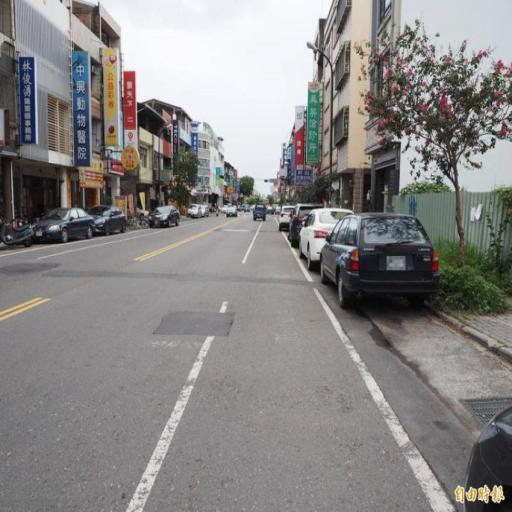car: (315, 208, 449, 316), (292, 203, 356, 270), (30, 200, 98, 246), (88, 196, 134, 240), (148, 198, 183, 236)
whiteline: (279, 222, 459, 512)
